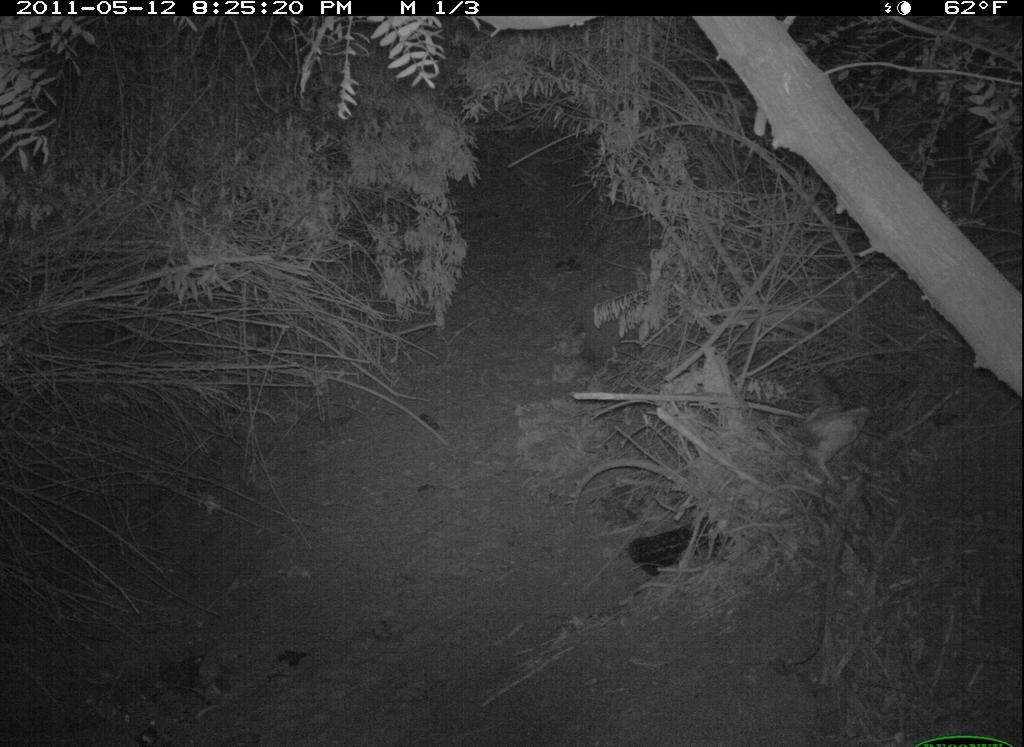bird: (773, 367, 883, 502)
